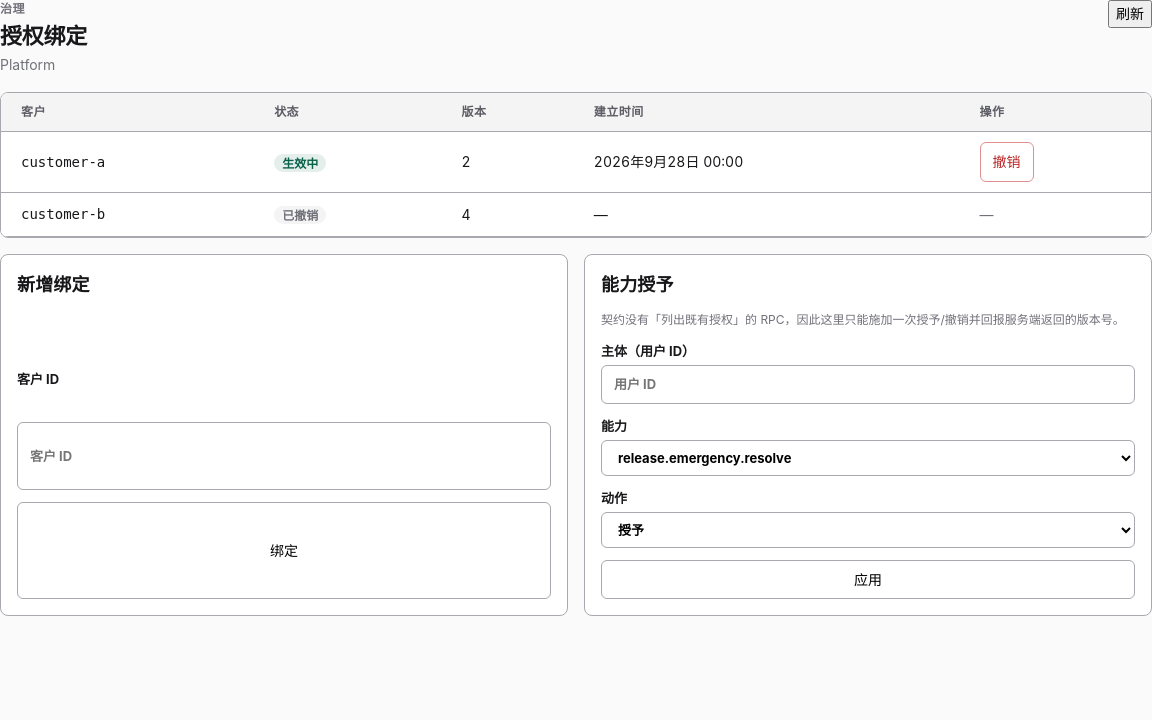
Test case: BindingsPage › cancel dismisses the confirmation with no revoke
This screenshot has width=1152, height=720.
Click the button "撤销" at (1006, 162), box [980,142,1034,182]
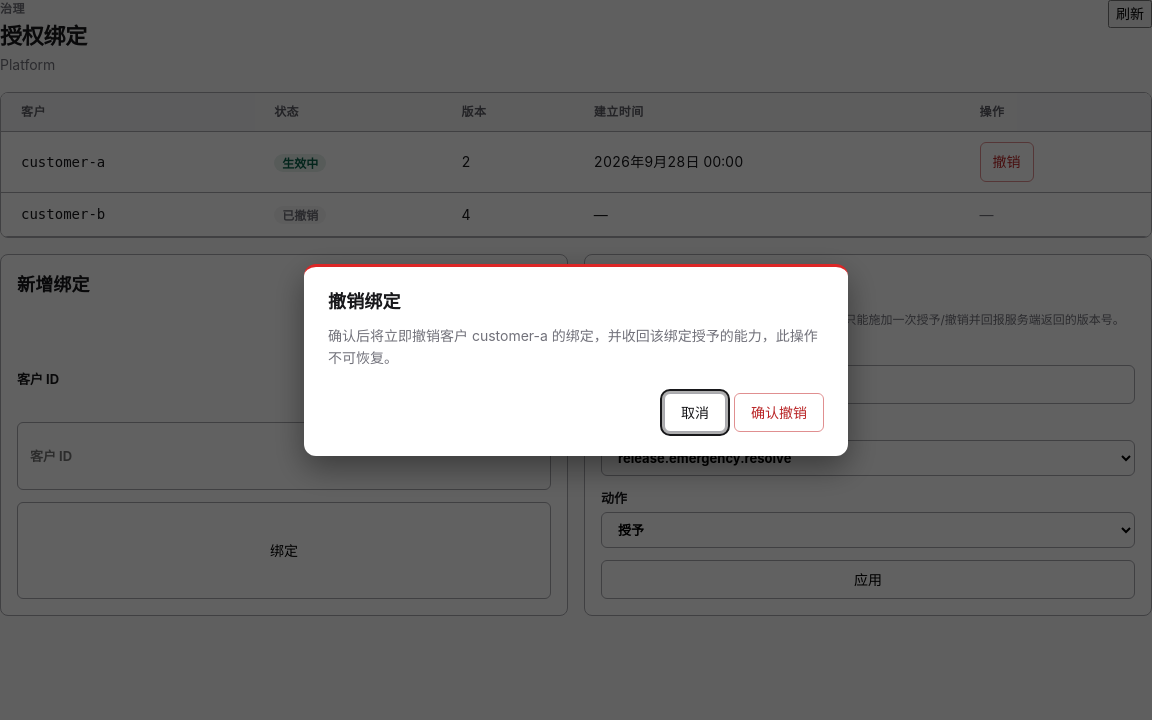
Click the button "取消" at (695, 412), box [664,393,726,432]
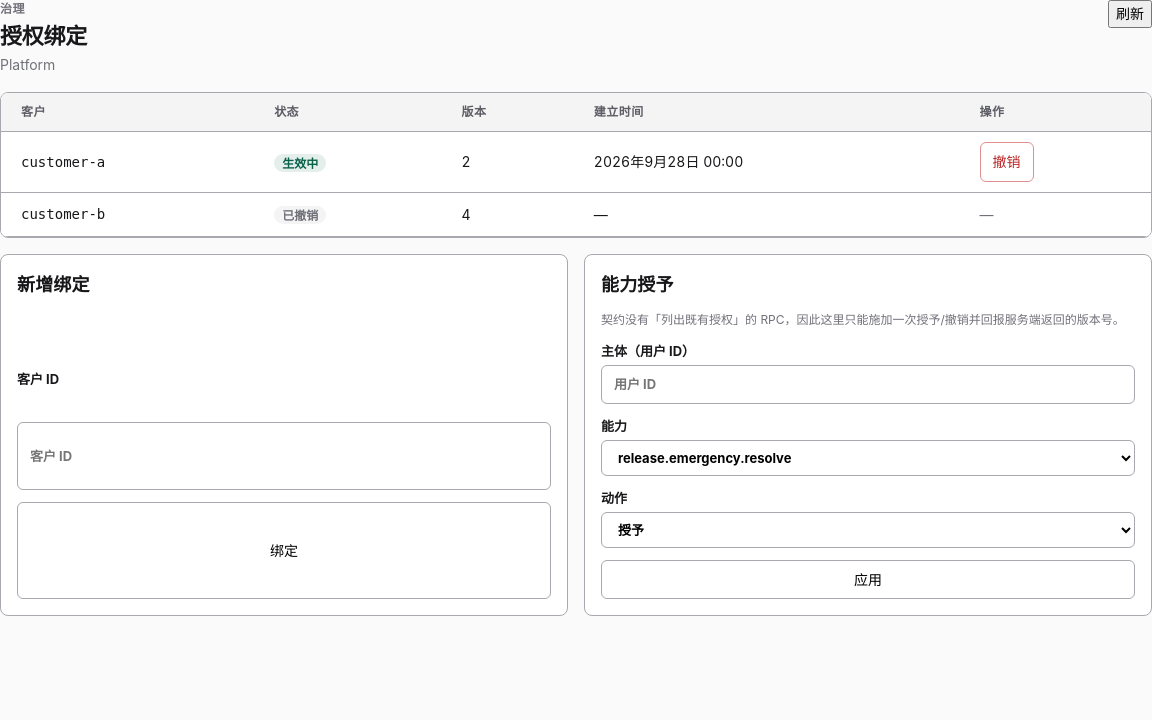
Expected: the dialog is gone
